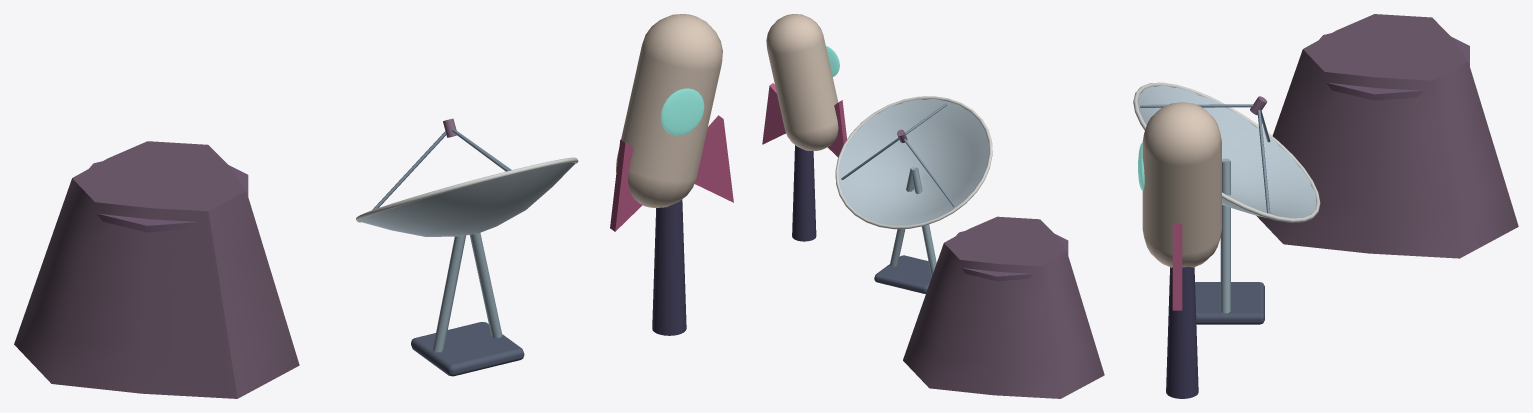
The model's file is moonmile-map.glb.
The picture shows the model from 3 angles, left to right: view 1: azimuth 30°, elevation 25°; view 2: azimuth 150°, elevation 25°; view 3: azimuth 270°, elevation 25°; orthographic projection. The views are drawn at different scales.
Visible parts, largest first — view 1: place-static, rocket-sign, radio-bowl; view 2: place-static, radio-bowl, rocket-sign; view 3: place-static, rocket-sign, radio-bowl.
Part boxes in pixels (bbox=[...]): place-static: bbox=[14, 141, 524, 398]; rocket-sign: bbox=[610, 14, 733, 335]; radio-bowl: bbox=[356, 118, 578, 236]; place-static: bbox=[874, 166, 1104, 398]; radio-bowl: bbox=[835, 96, 992, 229]; rocket-sign: bbox=[762, 14, 846, 241]; place-static: bbox=[1195, 14, 1518, 324]; rocket-sign: bbox=[1138, 102, 1221, 398]; radio-bowl: bbox=[1133, 82, 1320, 222].
Size of the model in its own units: 5.85 by 2.96 by 3.54.
